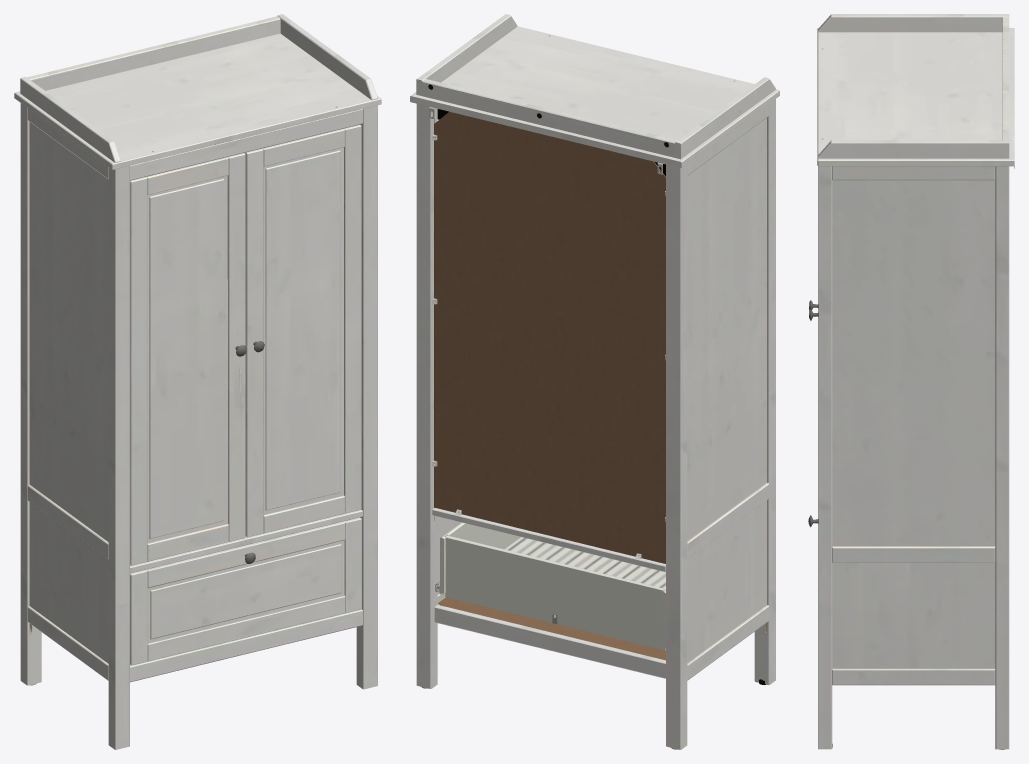
The picture shows the model from 3 angles, left to right: view 1: azimuth 30°, elevation 25°; view 2: azimuth 150°, elevation 25°; view 3: azimuth 270°, elevation 25°; orthographic projection.
Visible parts, largest first — view 1: 20368832-SUNDVIK001; view 2: 20368832-SUNDVIK001; view 3: 20368832-SUNDVIK001.
Part boxes in pixels (bbox=[...]): 20368832-SUNDVIK001: bbox=[14, 14, 381, 749]; 20368832-SUNDVIK001: bbox=[410, 14, 779, 749]; 20368832-SUNDVIK001: bbox=[808, 14, 1014, 749].
Bounding box in the file's own units: 0.7991 × 1.71 × 0.5257.
Materials: 1 (1 with a texture image).
